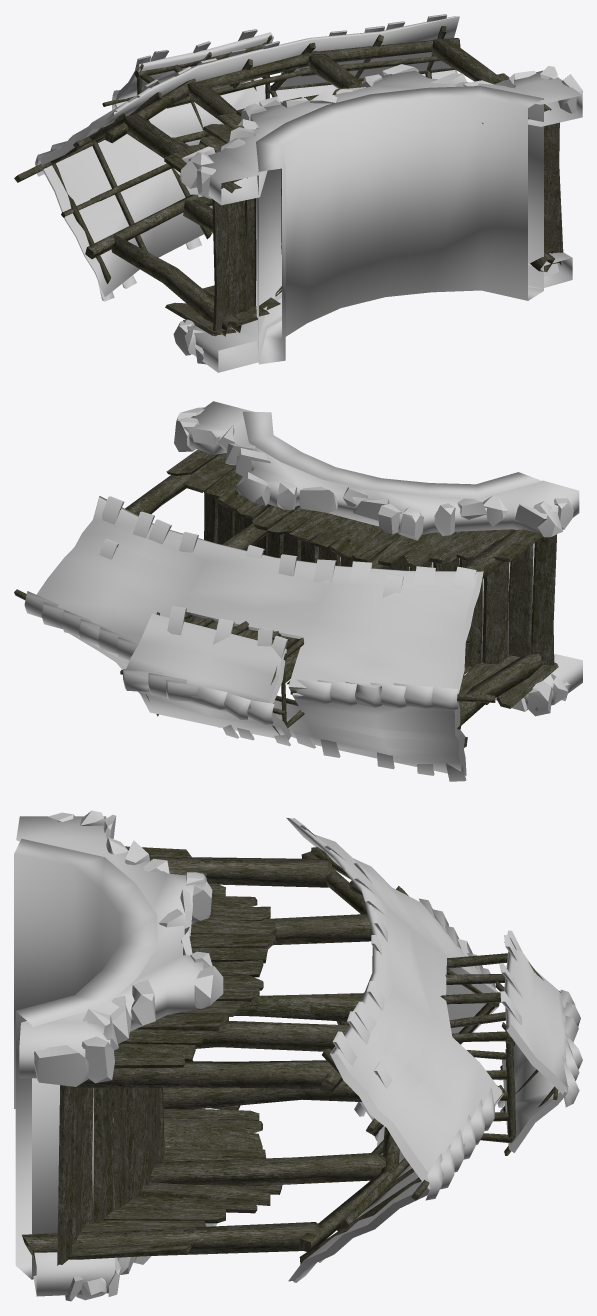
Rendered from TI_Small_Bridge_01.fbx.
3 views of the same model, one above another, from view 1: azimuth 30°, elevation 25°; view 2: azimuth 150°, elevation 25°; view 3: azimuth 270°, elevation 25° (orthographic). The views are drawn at different scales.
Visible parts, largest first — view 1: TI_Small_Bridge_Stone_01, TI_Small_Bridge_Wood_01, TI_Small_Bridge_Roof_01; view 2: TI_Small_Bridge_Roof_01, TI_Small_Bridge_Wood_01, TI_Small_Bridge_Stone_01; view 3: TI_Small_Bridge_Wood_01, TI_Small_Bridge_Stone_01, TI_Small_Bridge_Roof_01.
Part boxes in pixels (x1,y1,x2,y2): TI_Small_Bridge_Stone_01: (173, 64, 582, 372); TI_Small_Bridge_Wood_01: (14, 26, 563, 336); TI_Small_Bridge_Roof_01: (35, 14, 459, 301); TI_Small_Bridge_Roof_01: (24, 496, 483, 781); TI_Small_Bridge_Wood_01: (14, 449, 558, 747); TI_Small_Bridge_Stone_01: (174, 401, 582, 716); TI_Small_Bridge_Wood_01: (22, 846, 560, 1265); TI_Small_Bridge_Stone_01: (14, 810, 223, 1301); TI_Small_Bridge_Roof_01: (286, 817, 582, 1282).
Bounding box in the file's own units: 10.29 × 4.42 × 8.18.
